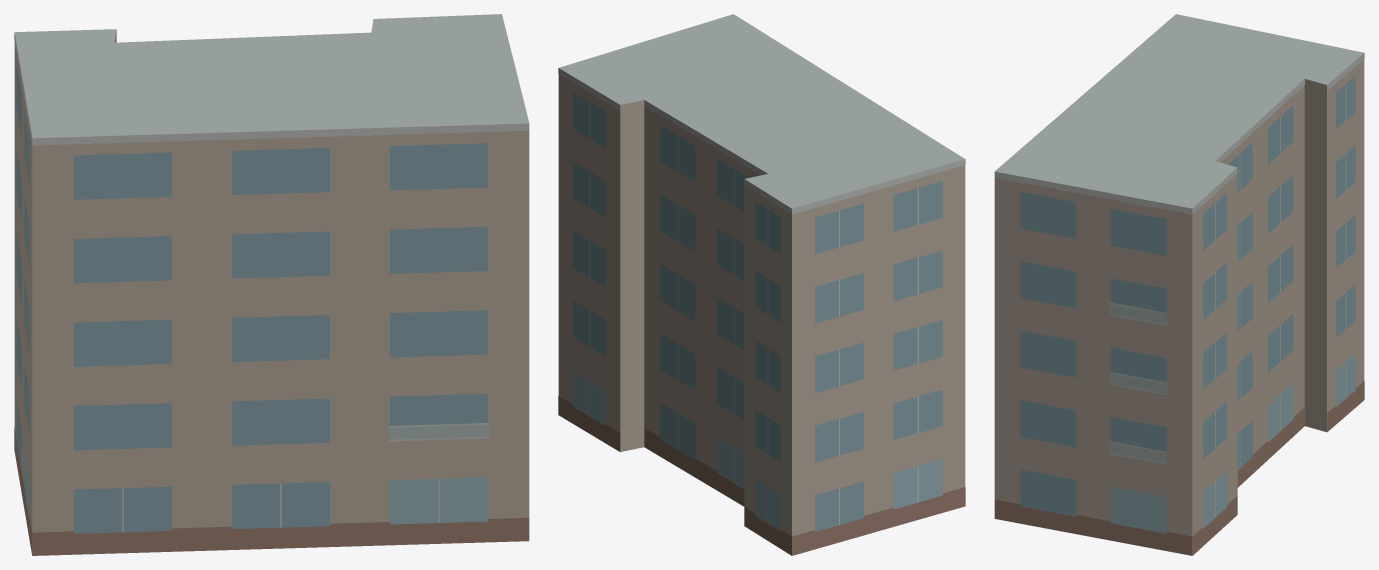
The model's file is survey-upis-32891613.glb.
3 views of the same model, side by side, from view 1: azimuth 30°, elevation 25°; view 2: azimuth 150°, elevation 25°; view 3: azimuth 270°, elevation 25° (orthographic). The views are drawn at different scales.
Visible parts, largest first — view 1: survey-upis-32891613.tmp; view 2: survey-upis-32891613.tmp; view 3: survey-upis-32891613.tmp.
Part boxes in pixels (bbox=[...]): survey-upis-32891613.tmp: bbox=[14, 14, 529, 555]; survey-upis-32891613.tmp: bbox=[558, 14, 965, 555]; survey-upis-32891613.tmp: bbox=[994, 14, 1364, 555].
Bounding box in the file's own units: 16.83 × 14 × 13.52.
